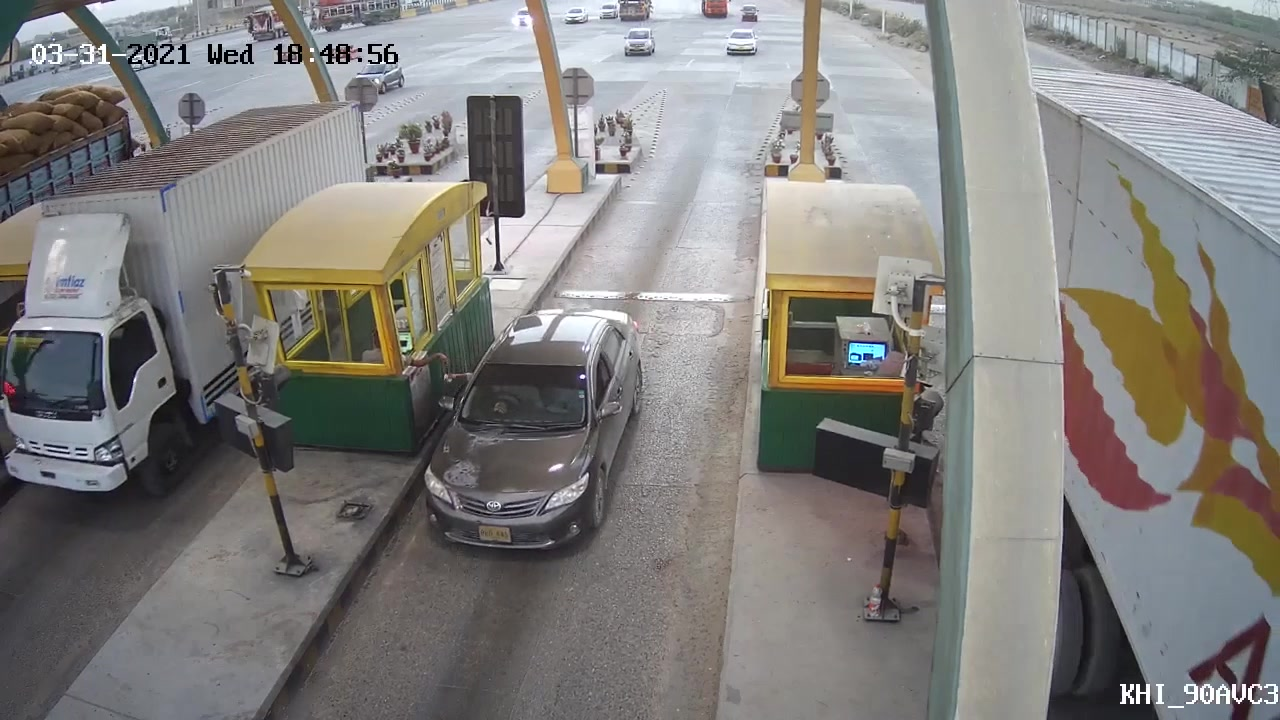F1: (410, 303, 653, 560)
